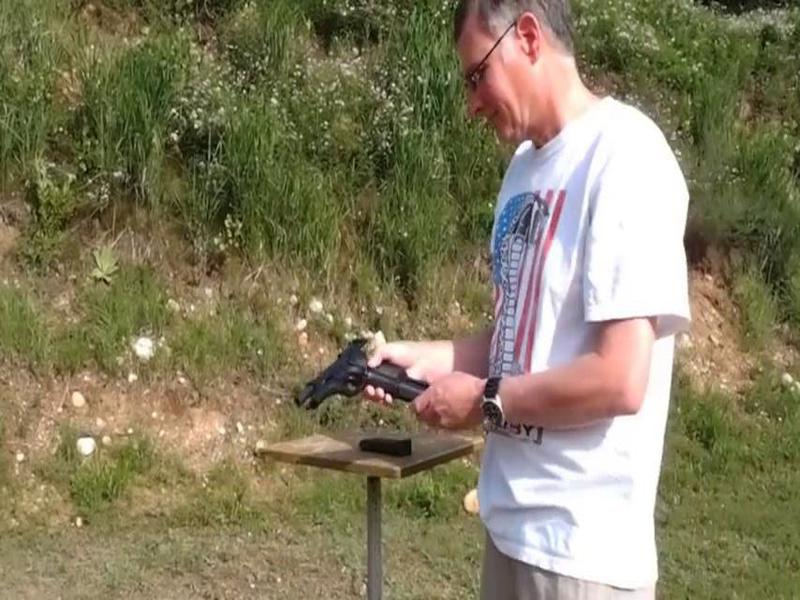Pistola: (283, 320, 440, 437)
